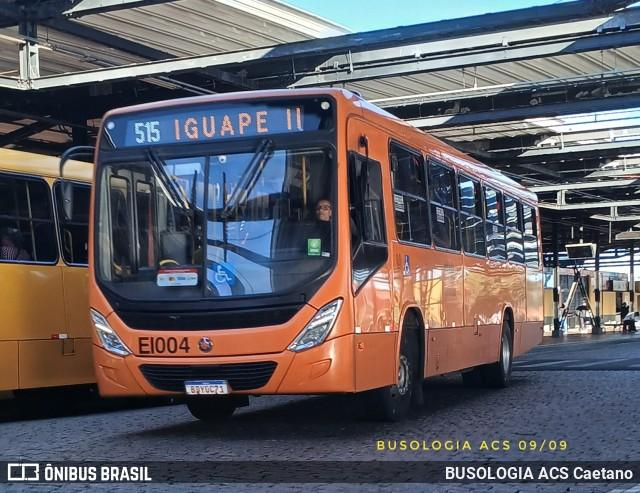IGUAPE II: (170, 105, 306, 142)
